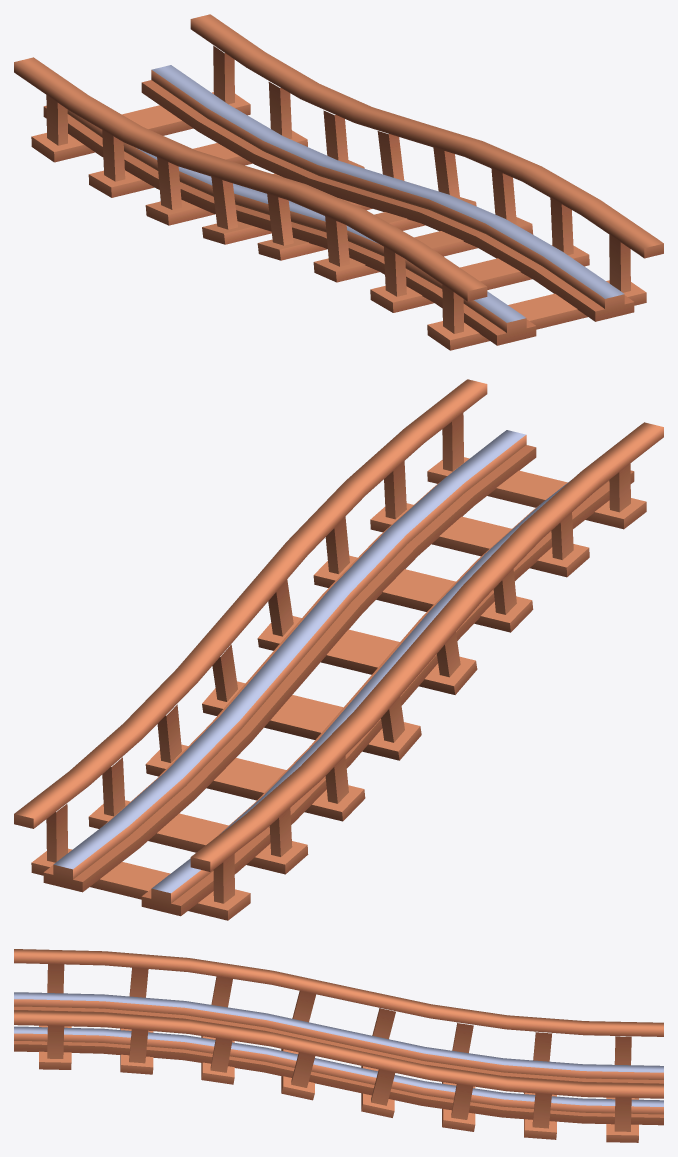
Rendered from kenney-coaster-coaster-wood-straight-hill-complete-half.glb.
The picture shows the model from 3 angles, top to bottom: view 1: azimuth 30°, elevation 25°; view 2: azimuth 150°, elevation 25°; view 3: azimuth 270°, elevation 25°; orthographic projection. The views are drawn at different scales.
Parts seen in each view (by area): view 1: coaster-wood-straight-hill-complete-half; view 2: coaster-wood-straight-hill-complete-half; view 3: coaster-wood-straight-hill-complete-half.
Part boxes in pixels (left/top/right/bottom): coaster-wood-straight-hill-complete-half: left=14, top=14, right=663, bottom=350; coaster-wood-straight-hill-complete-half: left=14, top=379, right=663, bottom=920; coaster-wood-straight-hill-complete-half: left=14, top=949, right=663, bottom=1142.
Size of the model in its own units: 1 by 0.8491 by 4.
Materials: 1 (1 with a texture image).
